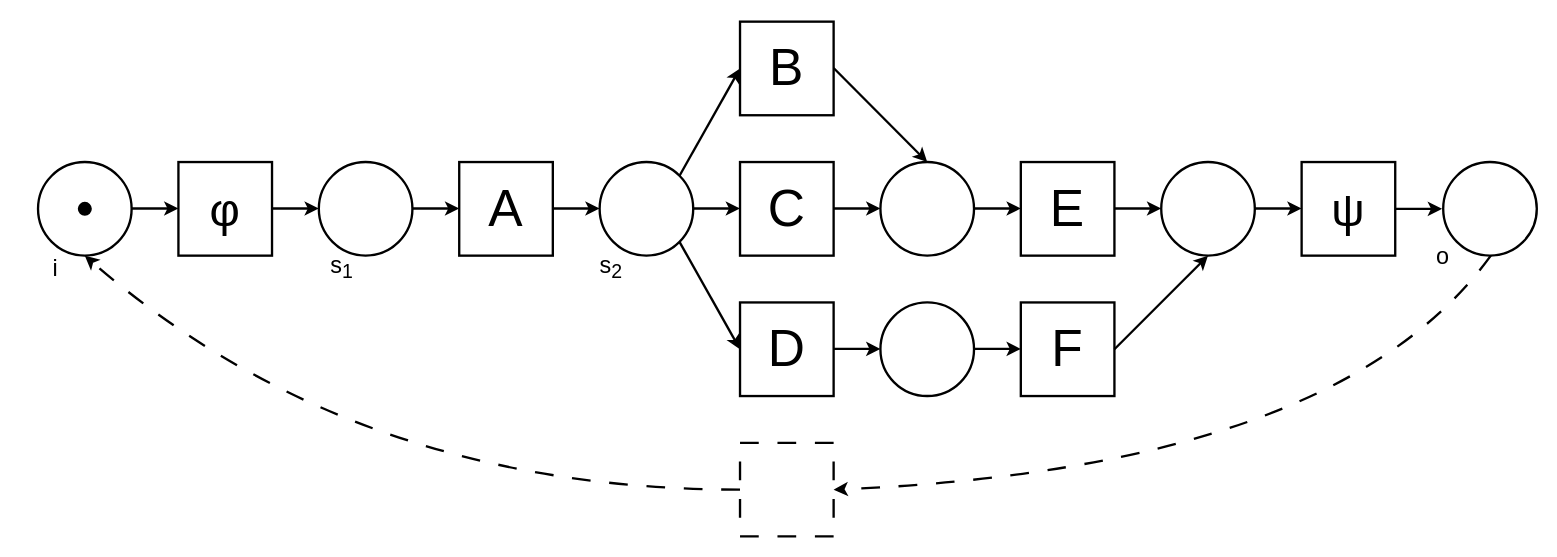
The diagram is 1557 pixels wide and 557 high, and some of its shapes have lost their labels. Each missing label, with the box of its shape:
s 3: (879, 160, 975, 256)
s 4: (879, 301, 975, 397)
s 5: (1159, 160, 1255, 256)
t*: (738, 441, 834, 537)
